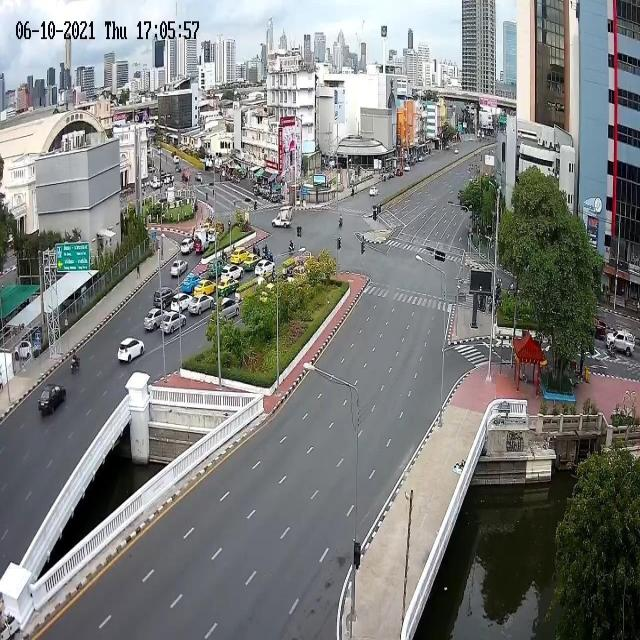Car: (35, 382, 69, 415), (116, 338, 147, 364), (606, 334, 636, 356), (160, 312, 187, 334), (218, 298, 240, 325), (143, 308, 168, 330), (187, 296, 214, 314), (254, 257, 277, 277), (152, 288, 177, 306), (218, 278, 242, 296), (206, 258, 227, 278), (13, 342, 33, 360), (170, 294, 192, 310), (220, 266, 244, 280), (181, 274, 201, 290), (168, 260, 190, 274), (243, 256, 262, 271), (229, 248, 249, 262), (193, 282, 215, 294), (178, 238, 194, 254), (368, 186, 379, 195), (152, 180, 163, 188), (196, 172, 203, 182), (404, 164, 411, 171), (454, 148, 460, 154), (419, 155, 425, 161)
Cycle: (69, 354, 83, 373), (605, 344, 617, 359), (288, 240, 295, 253), (338, 214, 344, 228)
Truck: (271, 205, 295, 228), (194, 229, 210, 255)
Van: (207, 228, 218, 241)
